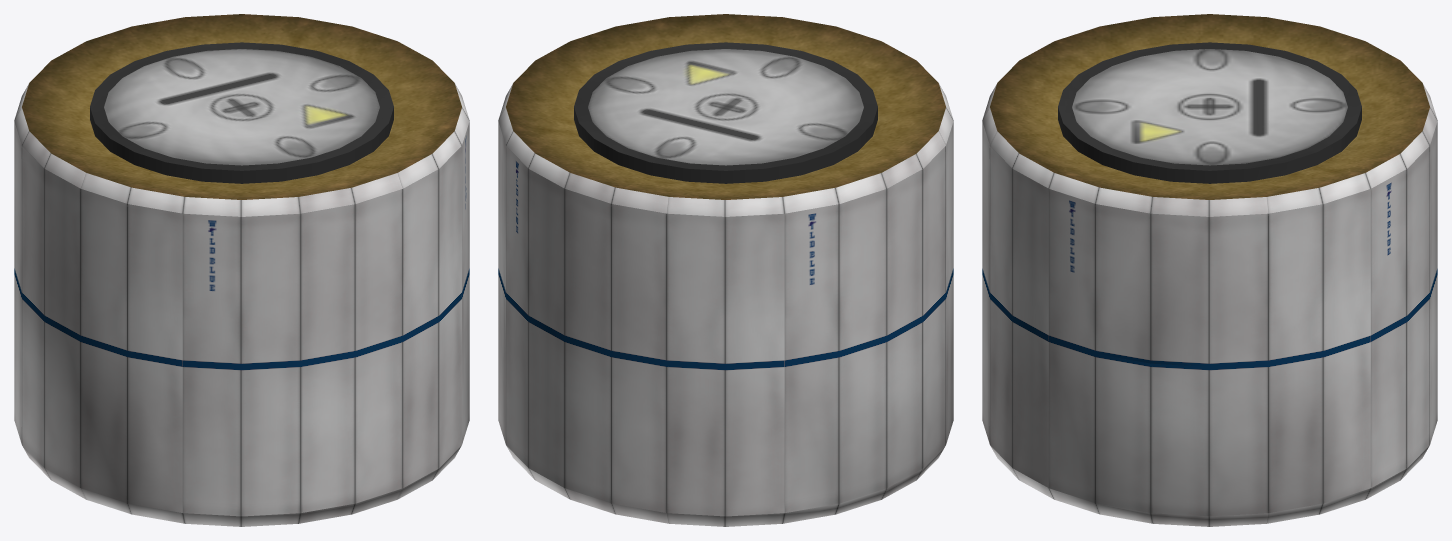
The model's file is SpinRing.FBX.
3 views of the same model, side by side, from view 1: azimuth 30°, elevation 25°; view 2: azimuth 150°, elevation 25°; view 3: azimuth 270°, elevation 25° (orthographic).
Visible parts, largest first — view 1: MainBody, EndCap004; view 2: MainBody, EndCap004; view 3: MainBody, EndCap004.
Boxes of the visible parts, <box> form: MainBody: <box>14,14,469,526</box>; EndCap004: <box>90,42,393,183</box>; MainBody: <box>498,14,953,526</box>; EndCap004: <box>574,42,877,183</box>; MainBody: <box>982,14,1437,526</box>; EndCap004: <box>1058,42,1361,183</box>.
Size of what is drawn, in the model's own units: 1.87 by 1.87 by 1.48.
1 material, 1 textured.
